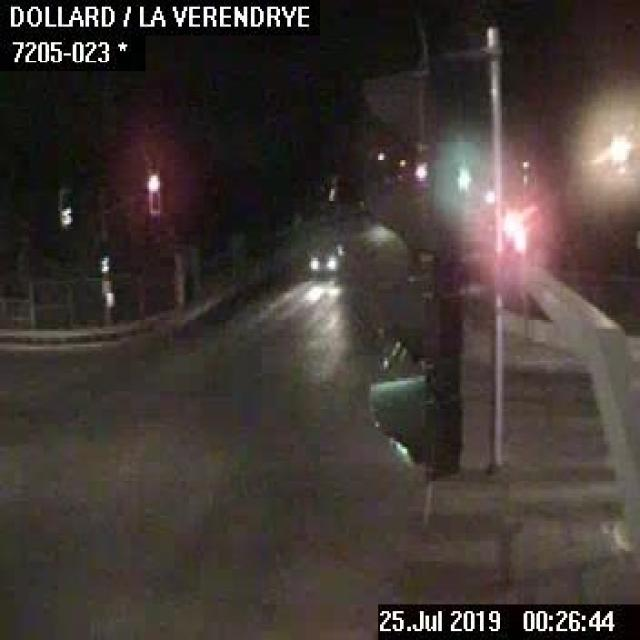vehicle: (304, 238, 351, 278)
